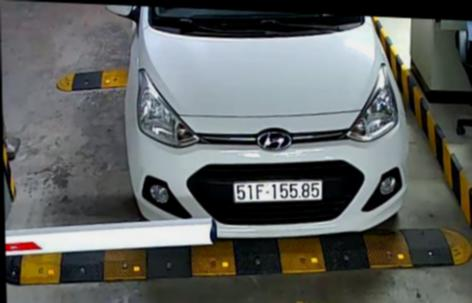License_Plate: (229, 172, 325, 207)
